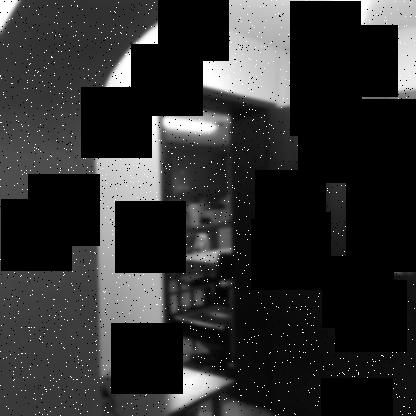Porte: (157, 75, 416, 415)
